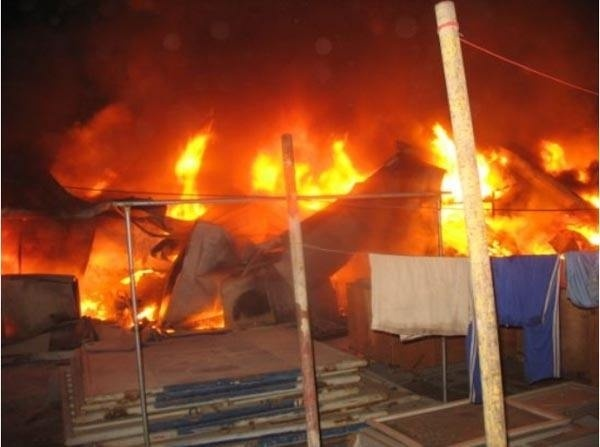fire: (245, 125, 363, 208)
